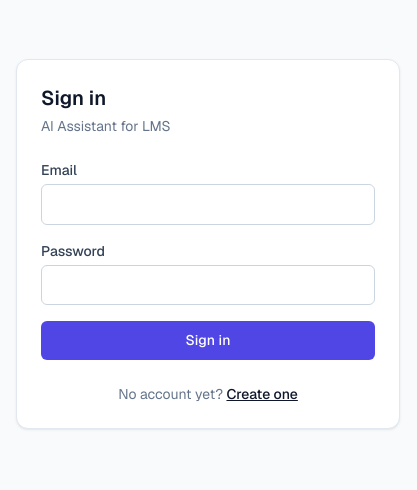
Test case: <LoginForm /> › falls back to a generic message for a non-API failure
The width and height of the screenshot is (417, 490).
Type "a@b.com" into the field labelled "Email".
click(208, 205); type("a@b.com")  # box [41, 184, 375, 225]
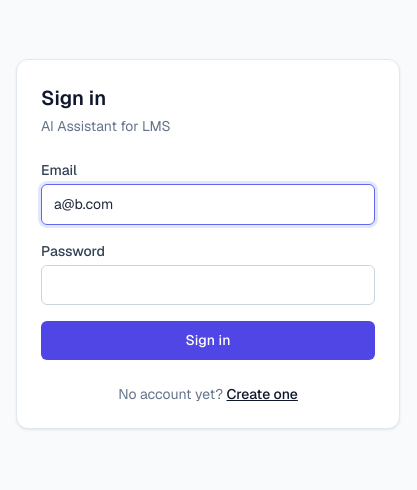
Type "secret" into the password field labelled "Password".
click(208, 285); type("secret")  # box [41, 265, 375, 305]
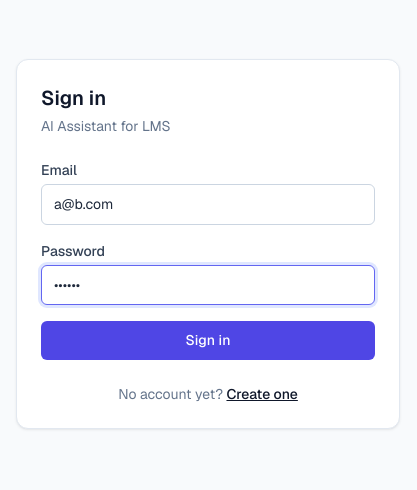
Click the button "Sign in".
click(208, 340)  # box [41, 321, 375, 360]
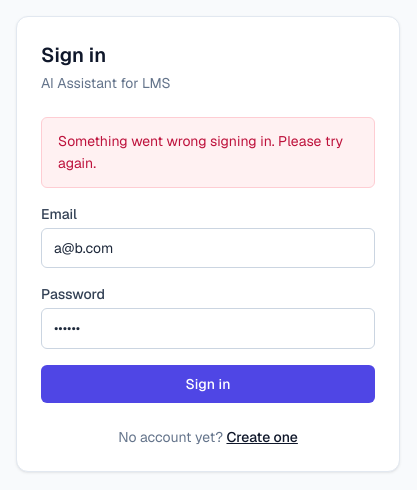
Expected: the message shows "Something went wrong", [58, 132, 343, 172]
